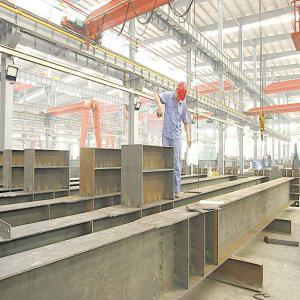red: (174, 82, 189, 105)
